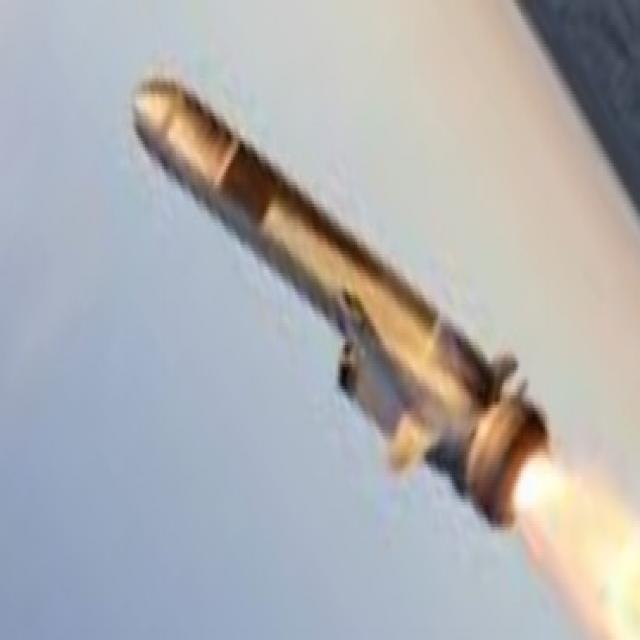missile: (129, 74, 550, 534)
